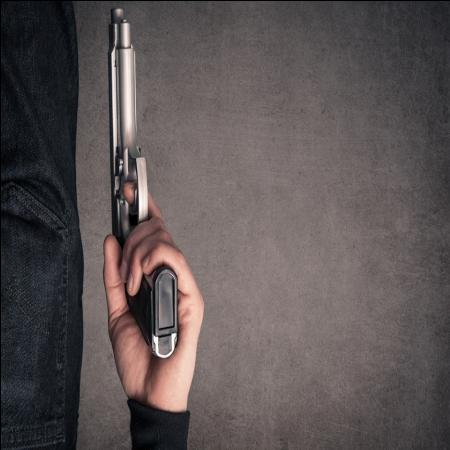Pistol: (106, 7, 176, 358)
